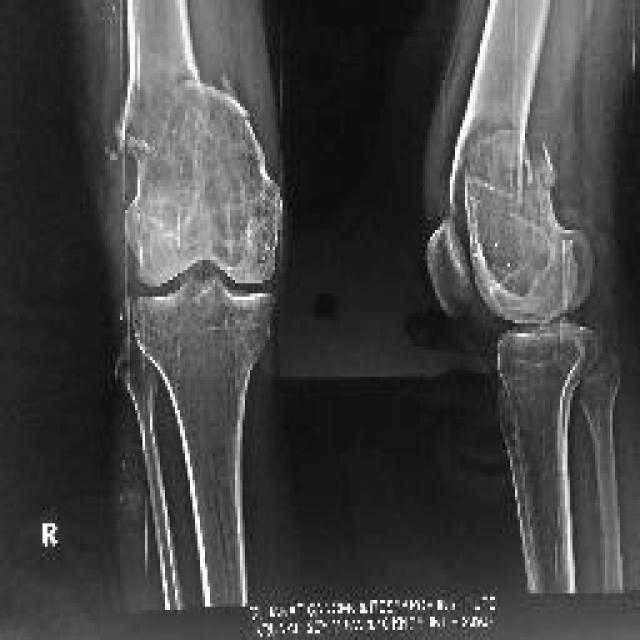bone-cancer: (106, 65, 279, 286), (450, 118, 561, 300)
